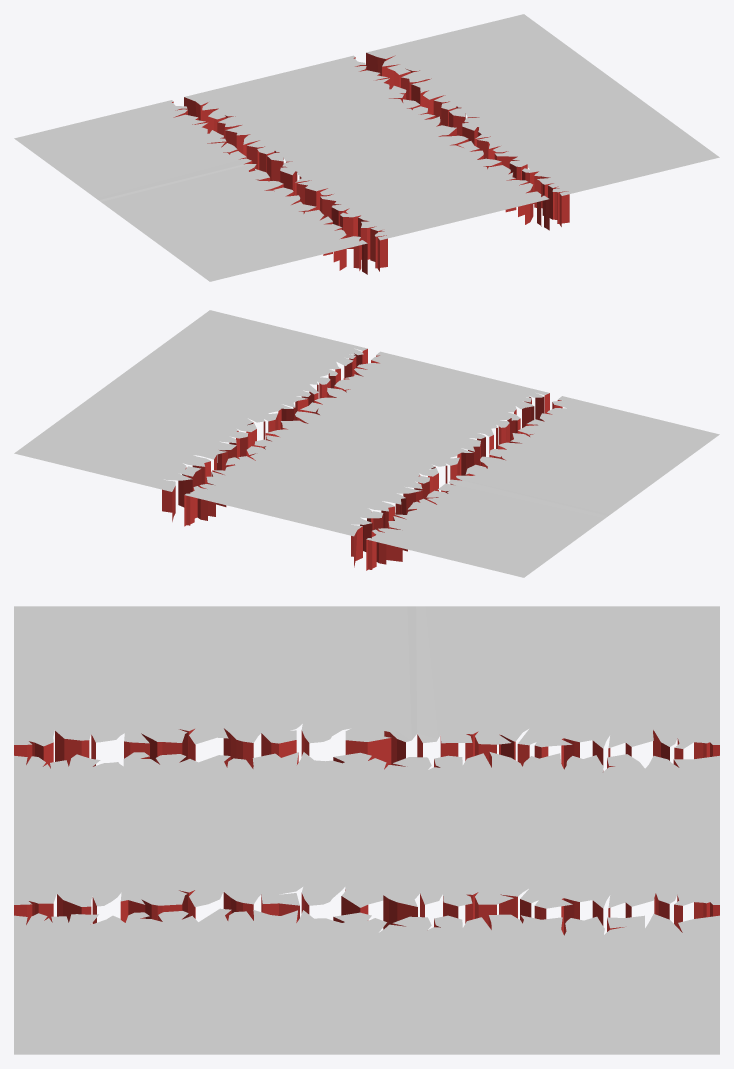
Rendered from lastice 1.fbx.
3 renders of one model, top to bottom at view 1: azimuth 30°, elevation 25°; view 2: azimuth 150°, elevation 25°; view 3: azimuth 270°, elevation 25°, orthographic. The views are drawn at different scales.
Visible parts, largest first — view 1: Plane.008, Plane.009, Plane.010; view 2: Plane.008, Plane.009, Plane.010; view 3: Plane.008, Plane.010, Plane.009.
Part boxes in pixels (bbox=[...]): Plane.008: bbox=[184, 55, 549, 271]; Plane.009: bbox=[366, 14, 719, 226]; Plane.010: bbox=[14, 100, 367, 281]; Plane.008: bbox=[184, 351, 549, 567]; Plane.009: bbox=[14, 310, 367, 521]; Plane.010: bbox=[366, 396, 719, 577]; Plane.008: bbox=[14, 752, 719, 935]; Plane.010: bbox=[14, 606, 719, 771]; Plane.009: bbox=[14, 908, 719, 1054].
Size of the model in its own units: 8414 by 505 by 5600.
